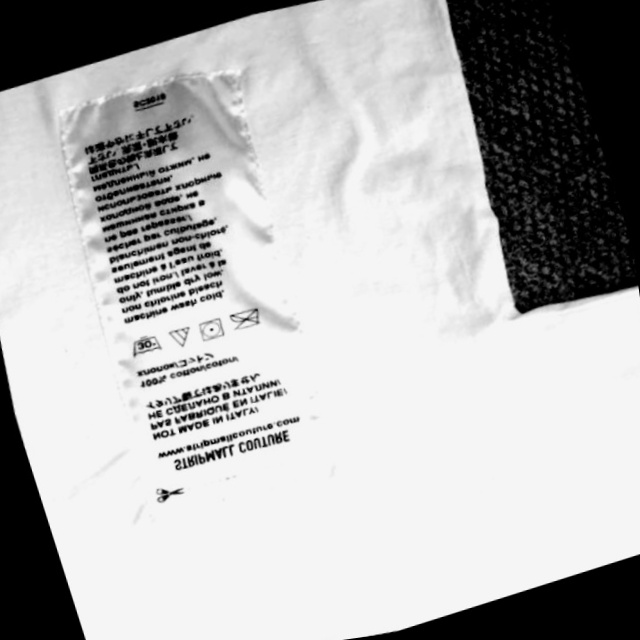30C: (123, 327, 167, 363)
DN_iron: (225, 300, 271, 340)
non_chlorine_bleach: (163, 321, 197, 353)
tumble_dry_low: (189, 312, 231, 347)
